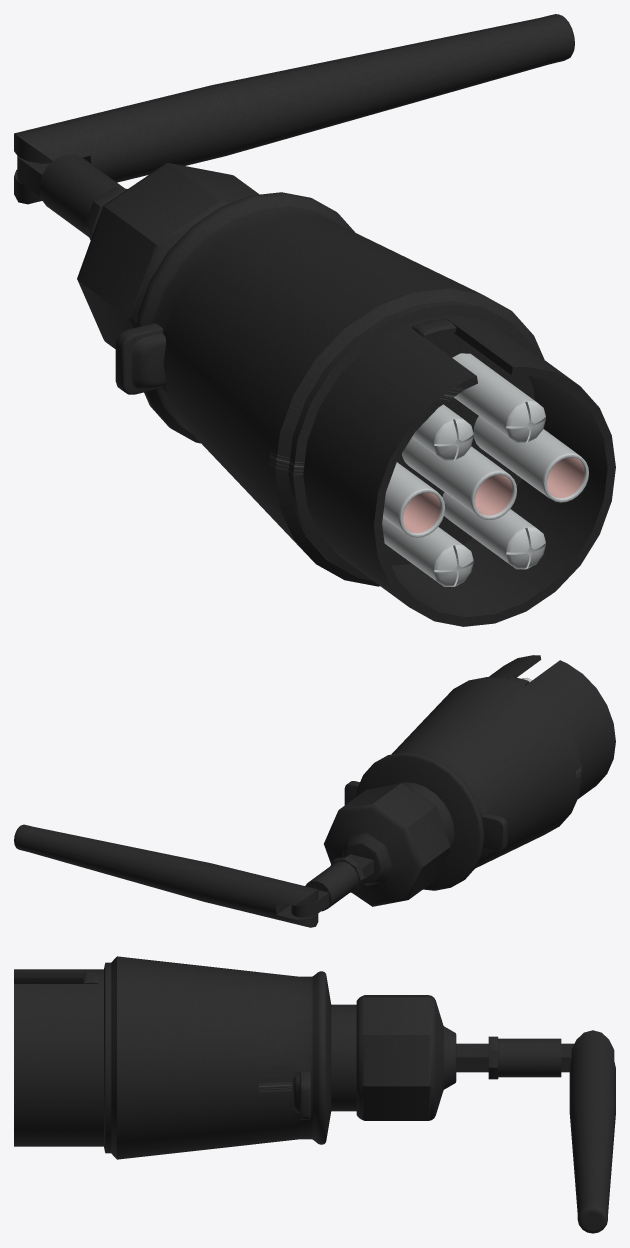
The model's file is remolux-transmitter.glb.
The picture shows the model from 3 angles, top to bottom: view 1: azimuth 30°, elevation 25°; view 2: azimuth 150°, elevation 25°; view 3: azimuth 270°, elevation 25°; orthographic projection. The views are drawn at different scales.
Parts seen in each view (by area): view 1: SM_Transmitter; view 2: SM_Transmitter; view 3: SM_Transmitter.
Boxes of the visible parts, x1=… form: SM_Transmitter: x1=14, y1=14, x2=615, y2=626; SM_Transmitter: x1=14, y1=655, x2=615, y2=927; SM_Transmitter: x1=14, y1=956, x2=615, y2=1233.
Bounding box in the file's own units: 0.7867 × 0.3247 × 0.958.
1 material, 1 textured.
